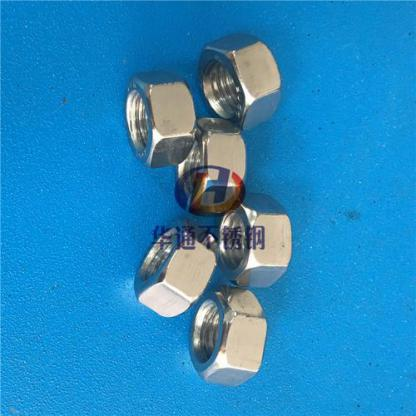FOD: (184, 282, 269, 390), (197, 31, 282, 135), (132, 223, 217, 321), (119, 69, 197, 171), (218, 190, 293, 295), (174, 115, 249, 216)
